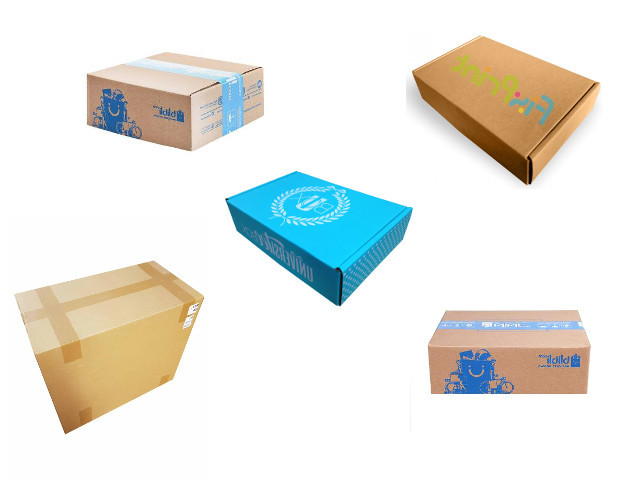cardboard: (15, 259, 207, 425), (413, 33, 601, 183), (225, 172, 414, 304), (87, 51, 265, 147), (427, 311, 589, 392)
